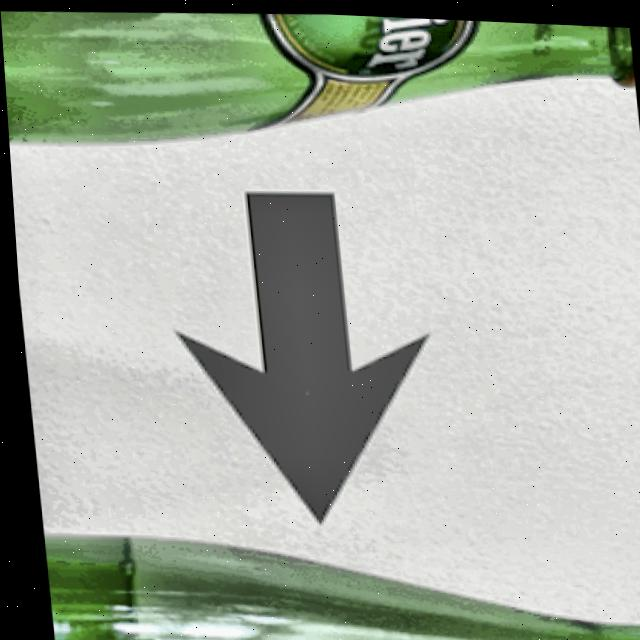glass: (1, 11, 634, 146), (35, 534, 640, 640)
